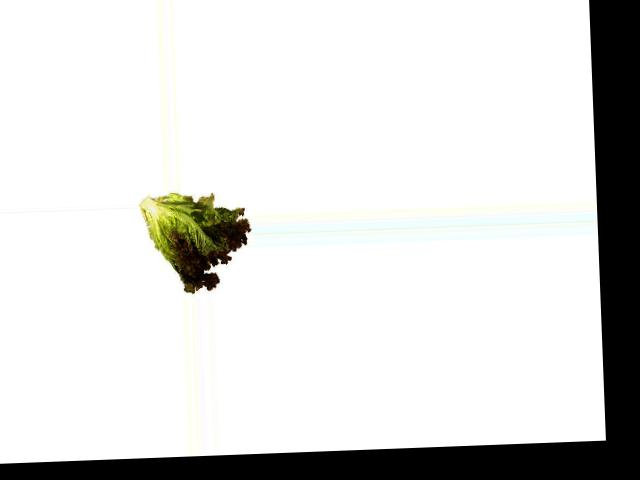lettuce: (141, 191, 253, 293)
